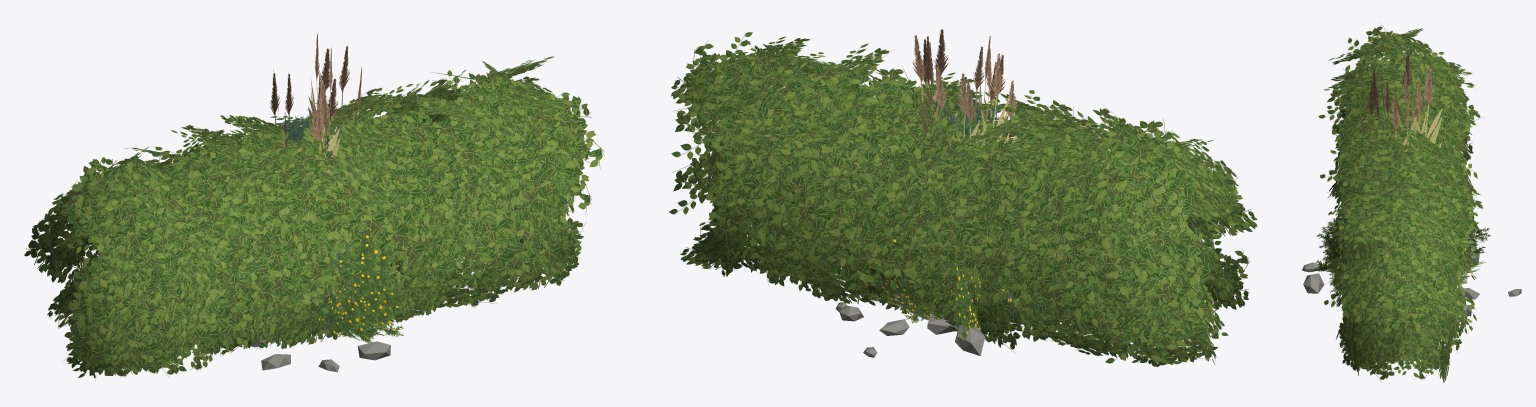
Rendered from ground_biome.glb.
3 renders of one model, left to right at view 1: azimuth 30°, elevation 25°; view 2: azimuth 150°, elevation 25°; view 3: azimuth 270°, elevation 25°, orthographic. The views are drawn at different scales.
Visible parts, largest first — view 1: hedge, gorse, reed, scree, juniper; view 2: hedge, reed, gorse, scree, juniper; view 3: hedge, reed, gorse, scree.
Boxes of the visible parts, x1,y1,x2,y2 form: hedge: [24, 56, 604, 378]; gorse: [260, 206, 429, 344]; reed: [263, 33, 362, 196]; scree: [244, 319, 393, 372]; juniper: [281, 102, 361, 333]; hedge: [669, 32, 1257, 367]; reed: [907, 29, 1020, 159]; gorse: [858, 195, 1021, 342]; scree: [836, 287, 1041, 357]; juniper: [900, 89, 1011, 298]; hedge: [1318, 24, 1482, 382]; reed: [1359, 52, 1442, 158]; gorse: [1313, 174, 1491, 305]; scree: [1302, 249, 1521, 321].
Bounding box in the file's own units: 4.29 × 2.05 × 1.81.
2 materials, 1 textured.
